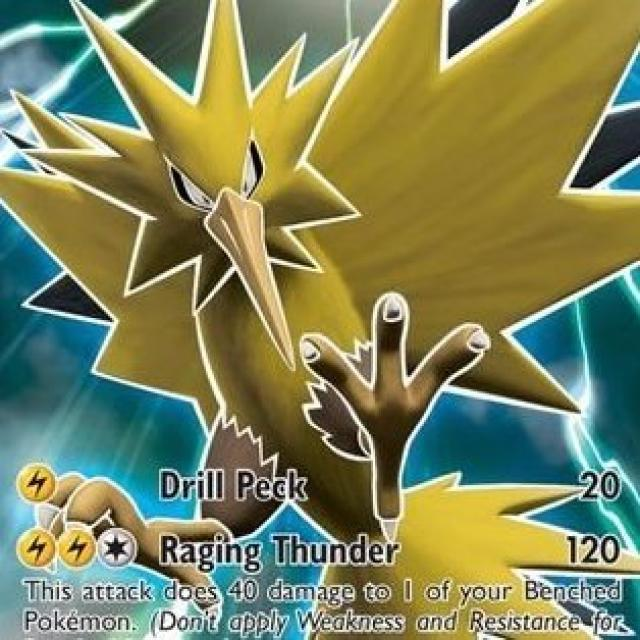Zapdos: (50, 9, 525, 600)
